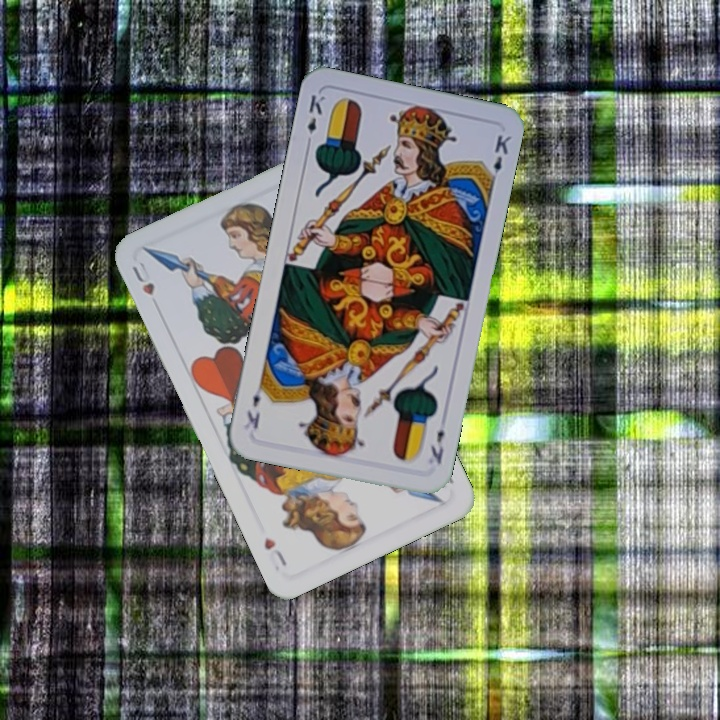EK: (302, 90, 328, 149), (426, 425, 447, 467)
HU: (128, 257, 157, 298)
